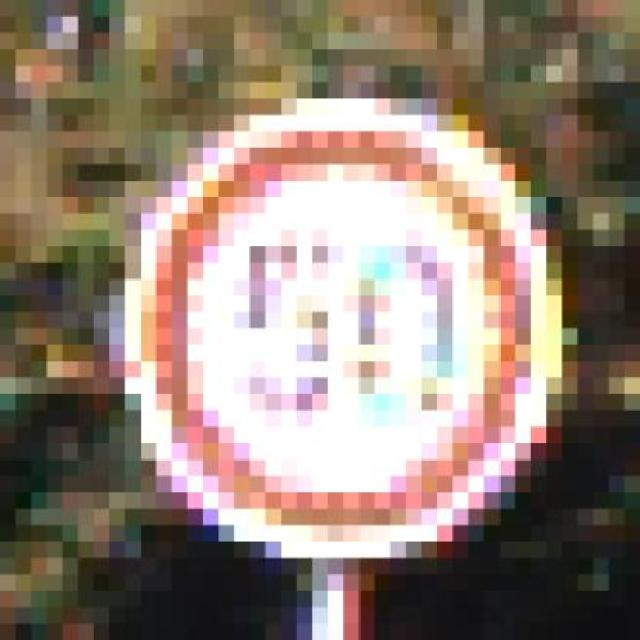50 mph speed limit: (108, 98, 578, 574)
